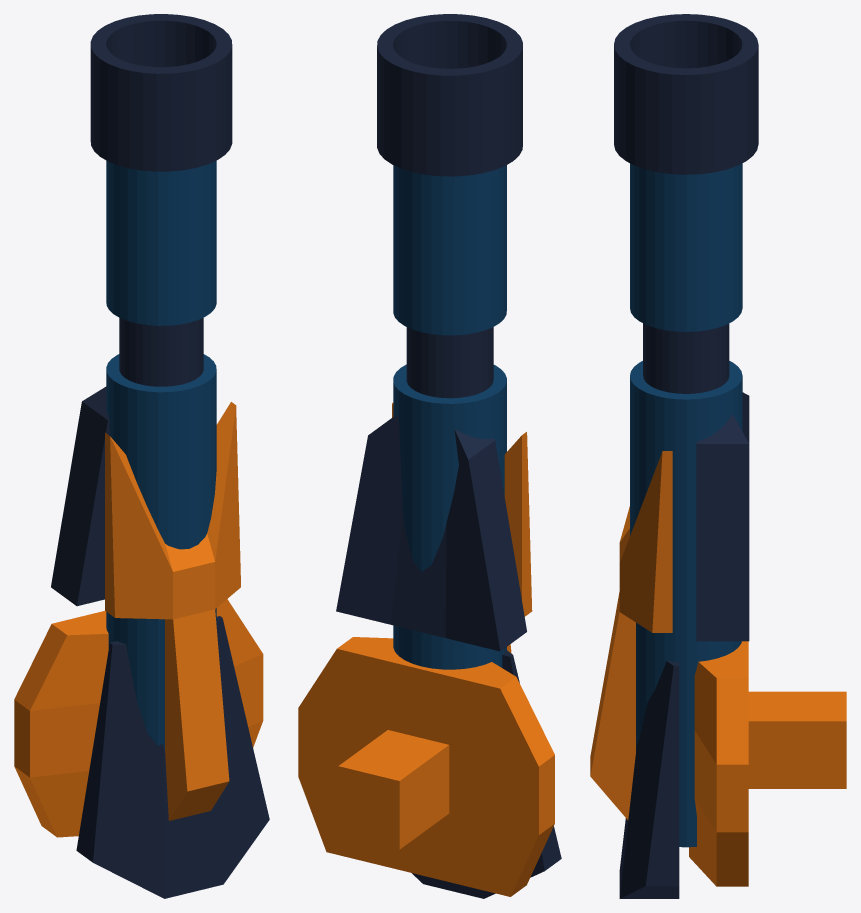
Rendered from Gun.fbx.
3 views of the same model, side by side, from view 1: azimuth 30°, elevation 25°; view 2: azimuth 150°, elevation 25°; view 3: azimuth 270°, elevation 25° (orthographic). The views are drawn at different scales.
Parts seen in each view (by area): view 1: Gun; view 2: Gun; view 3: Gun.
Part boxes in pixels (box(x1,y1,x2,y2)): Gun: box(14, 14, 269, 898); Gun: box(298, 14, 561, 898); Gun: box(590, 14, 846, 898).
Size of the model in its own units: 0.3399 by 1.15 by 0.3168.
